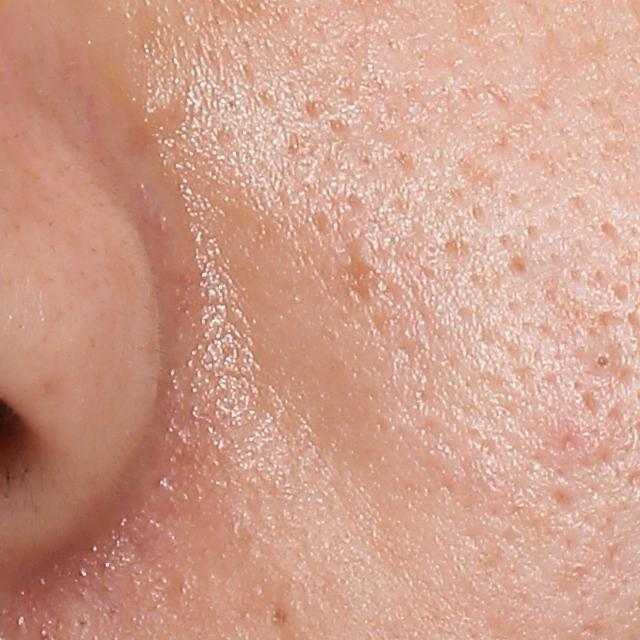atrophic_scar: (344, 235, 375, 312)
comedo: (585, 342, 618, 379)
